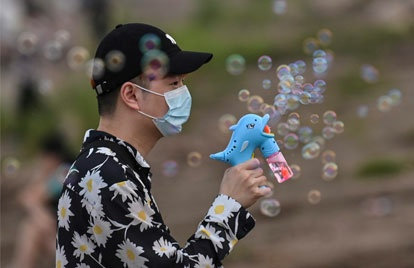with_mask: (127, 51, 206, 147)
